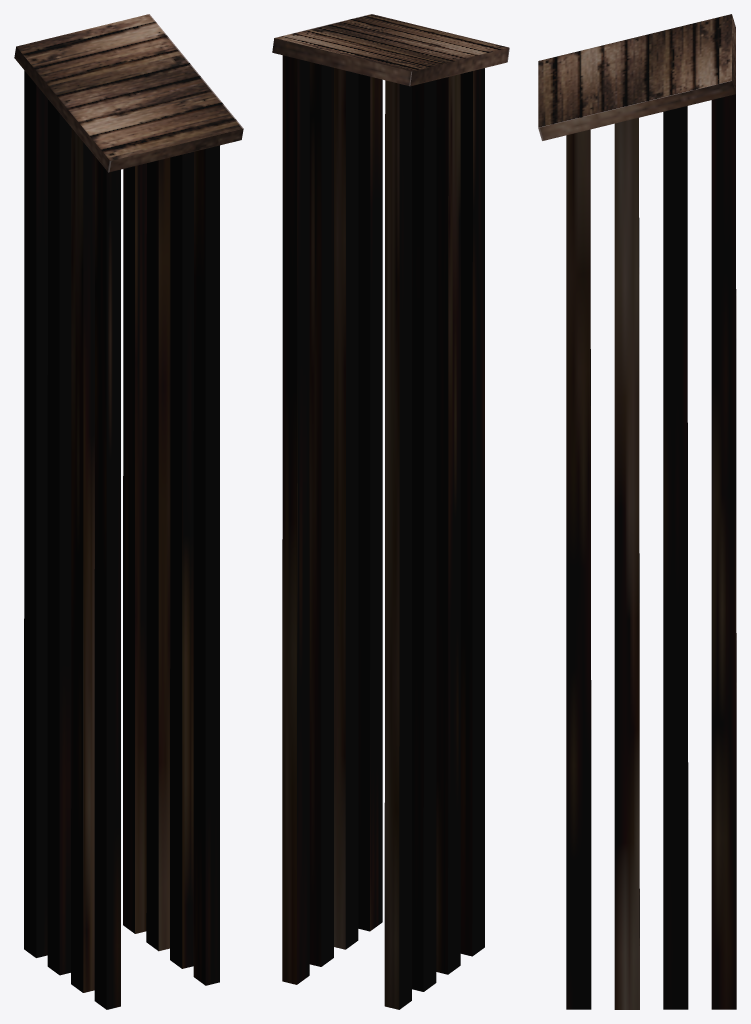
The model's file is PlatformAscendFBX.fbx.
3 views of the same model, side by side, from view 1: azimuth 30°, elevation 25°; view 2: azimuth 150°, elevation 25°; view 3: azimuth 270°, elevation 25° (orthographic). The views are drawn at different scales.
Visible parts, largest first — view 1: StraightAscend; view 2: StraightAscend; view 3: StraightAscend.
Part boxes in pixels (x1=…): StraightAscend: x1=14, y1=14, x2=243, y2=1009; StraightAscend: x1=272, y1=14, x2=509, y2=1009; StraightAscend: x1=538, y1=14, x2=736, y2=1009.
Bounding box in the file's own units: 472 × 3067 × 591.
